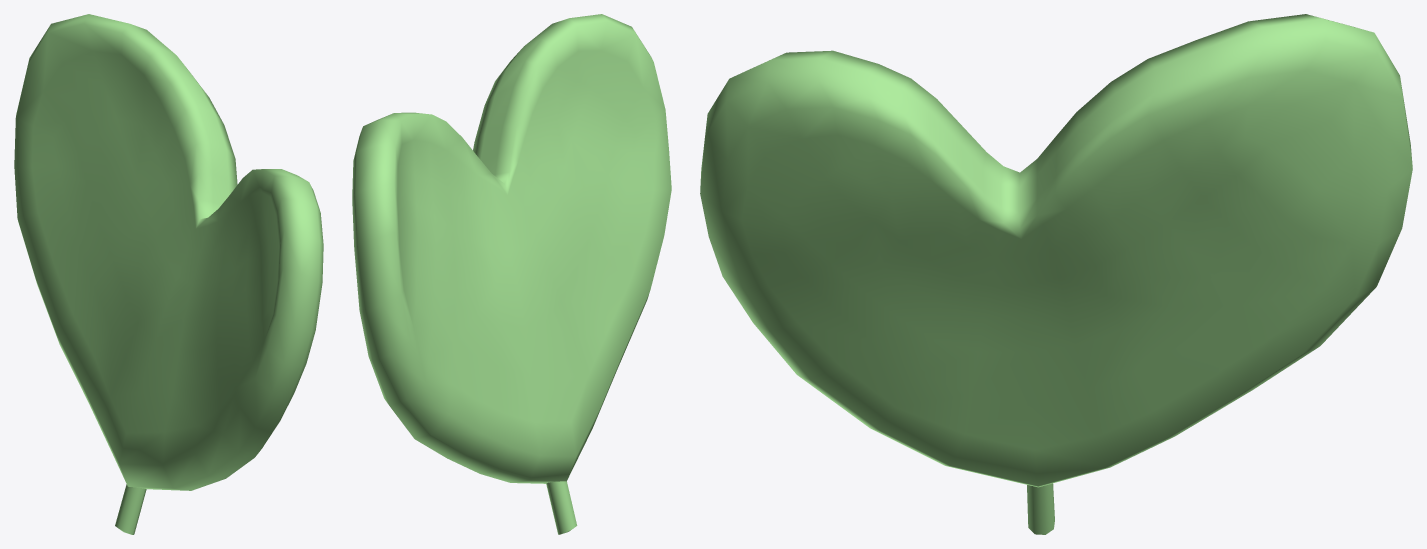
File: tea_leave_01.fbx
The picture shows the model from 3 angles, left to right: view 1: azimuth 30°, elevation 25°; view 2: azimuth 150°, elevation 25°; view 3: azimuth 270°, elevation 25°; orthographic projection. The views are drawn at different scales.
Visible parts, largest first — view 1: herb_leaf_01; view 2: herb_leaf_01; view 3: herb_leaf_01.
Boxes of the visible parts, <box> form: herb_leaf_01: <box>14,14,323,534</box>; herb_leaf_01: <box>352,14,671,534</box>; herb_leaf_01: <box>700,14,1412,534</box>.
Size of the model in its own units: 0.0721 by 0.2206 by 0.2541.
